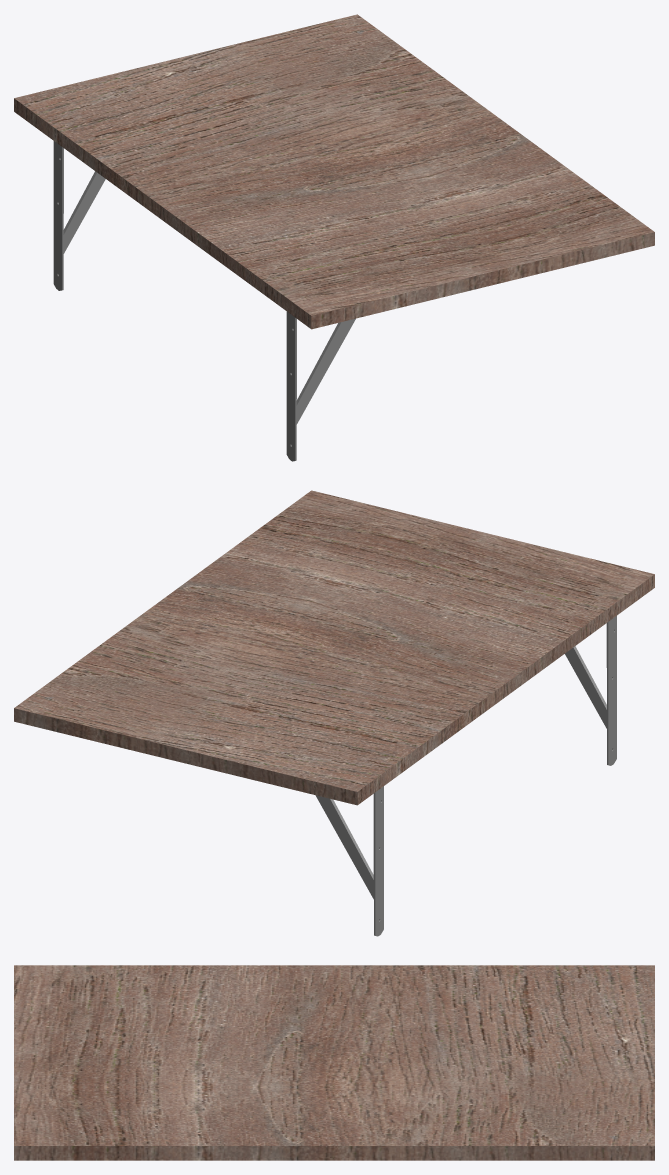
File: Shelf.fbx
3 views of the same model, one above another, from view 1: azimuth 30°, elevation 25°; view 2: azimuth 150°, elevation 25°; view 3: azimuth 270°, elevation 25° (orthographic). The views are drawn at different scales.
Parts seen in each view (by area): view 1: Shelf; view 2: Shelf; view 3: Shelf.
Boxes of the visible parts, <box> form: Shelf: <box>14,14,654,461</box>; Shelf: <box>14,490,654,936</box>; Shelf: <box>14,965,654,1160</box>.
Bounding box in the file's own units: 50.49 × 23.94 × 75.72.
